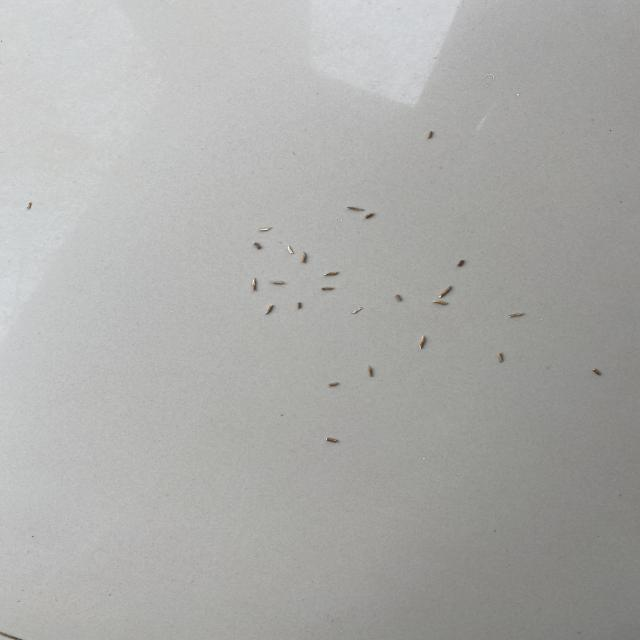Wereng: (435, 282, 458, 301), (264, 304, 282, 321), (363, 364, 381, 381), (326, 435, 349, 448), (317, 283, 338, 296), (318, 268, 342, 278), (418, 332, 429, 352), (431, 298, 452, 308), (390, 292, 406, 304), (349, 306, 368, 316), (253, 238, 266, 252), (291, 300, 305, 313), (457, 255, 469, 270), (346, 204, 365, 213), (509, 311, 528, 320), (272, 279, 288, 288), (284, 245, 298, 255), (300, 251, 310, 265), (251, 278, 260, 293), (326, 380, 340, 389), (257, 226, 274, 233), (497, 350, 506, 363), (362, 211, 376, 219), (428, 130, 437, 139), (27, 201, 34, 212), (591, 369, 602, 376)
